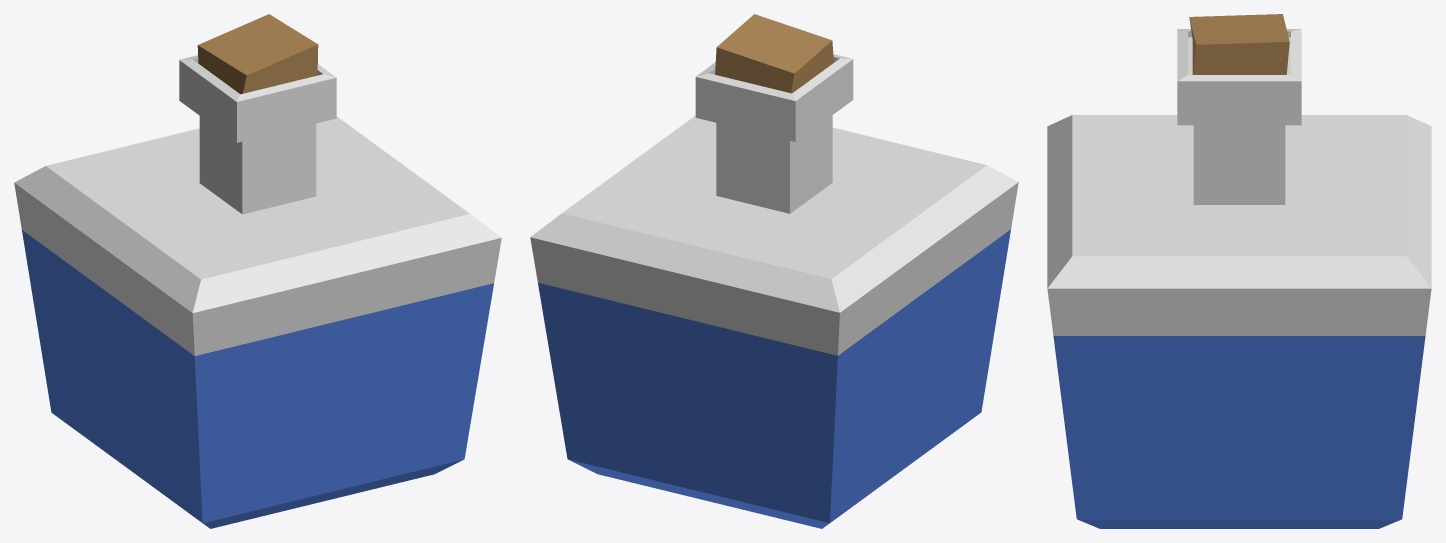
The model's file is Potion_Mana.fbx.
3 views of the same model, side by side, from view 1: azimuth 30°, elevation 25°; view 2: azimuth 150°, elevation 25°; view 3: azimuth 270°, elevation 25° (orthographic). The views are drawn at different scales.
Visible parts, largest first — view 1: Potion_Mana; view 2: Potion_Mana; view 3: Potion_Mana.
Boxes of the visible parts, box(x1,y1,x2,y2) form: Potion_Mana: box(14, 14, 501, 528); Potion_Mana: box(530, 14, 1018, 528); Potion_Mana: box(1047, 14, 1431, 528).
Bounding box in the file's own units: 20 × 25.64 × 20.
